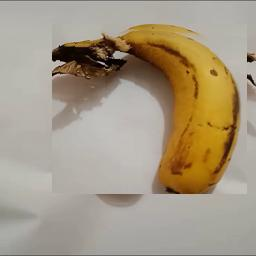Banana Semifresh: (52, 25, 247, 195)
